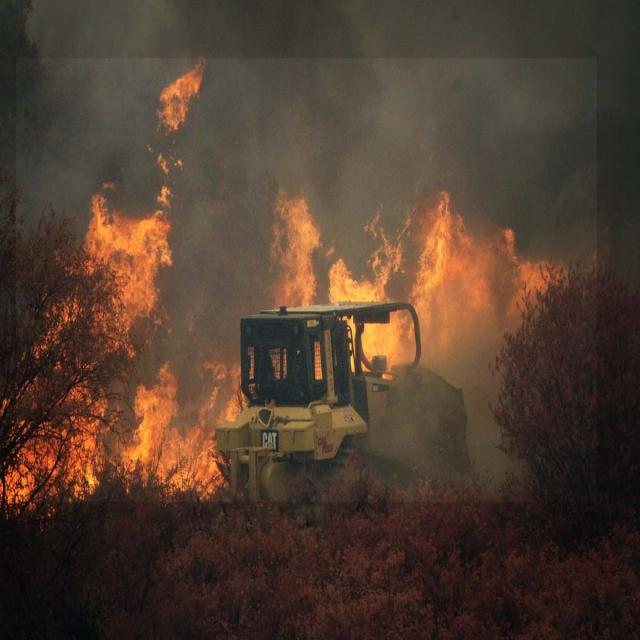Fire: (16, 58, 597, 502)
